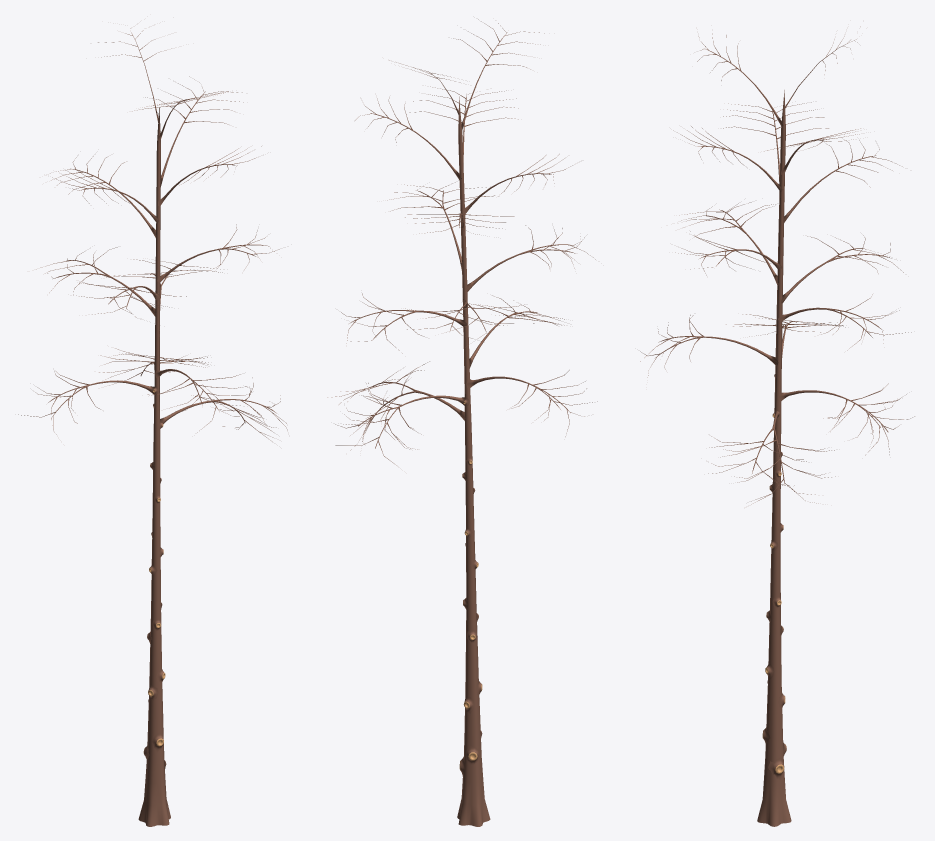
File: pin_mort.glb
The picture shows the model from 3 angles, left to right: view 1: azimuth 30°, elevation 25°; view 2: azimuth 150°, elevation 25°; view 3: azimuth 270°, elevation 25°; orthographic projection. The views are drawn at different scales.
Parts seen in each view (by area): view 1: bark04_0; view 2: bark04_0; view 3: bark04_0.
Part boxes in pixels (<box>): bark04_0: <box>18,28,287,826</box>; bark04_0: <box>327,19,597,826</box>; bark04_0: <box>640,26,914,826</box>.
Bounding box in the file's own units: 35.54 × 104 × 33.95.
